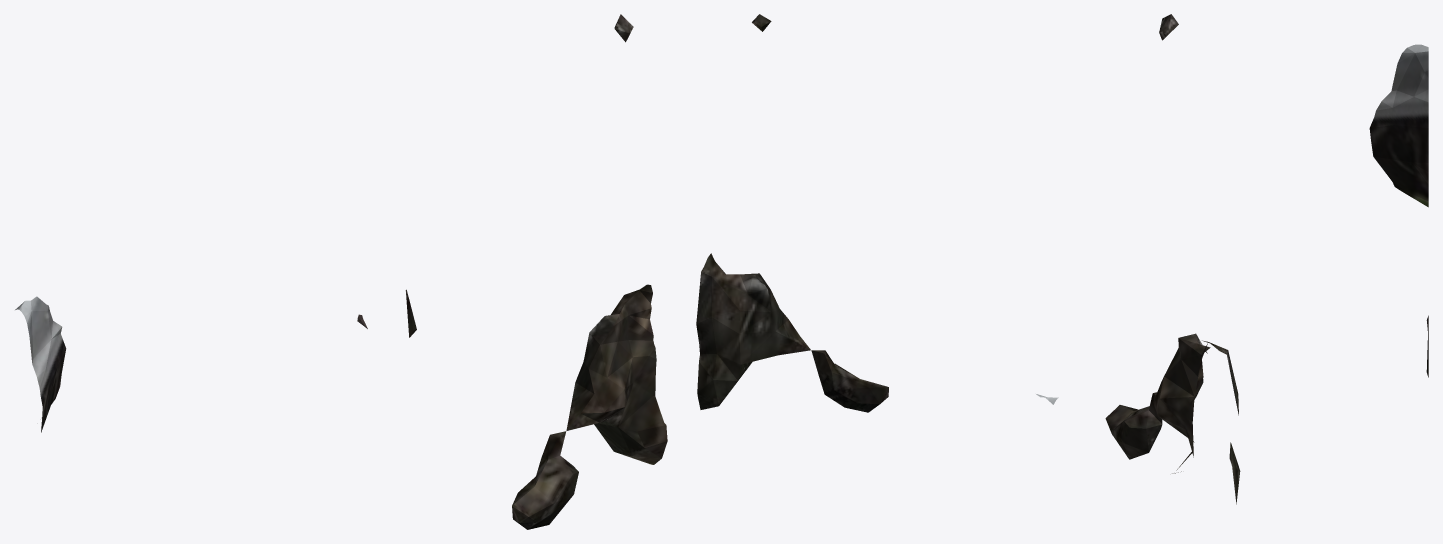
3 views of the same model, side by side, from view 1: azimuth 30°, elevation 25°; view 2: azimuth 150°, elevation 25°; view 3: azimuth 270°, elevation 25° (orthographic). The views are drawn at different scales.
Size of the model in its own units: 0.8374 by 0.7203 by 0.4275.
Materials: 1 (1 with a texture image).
